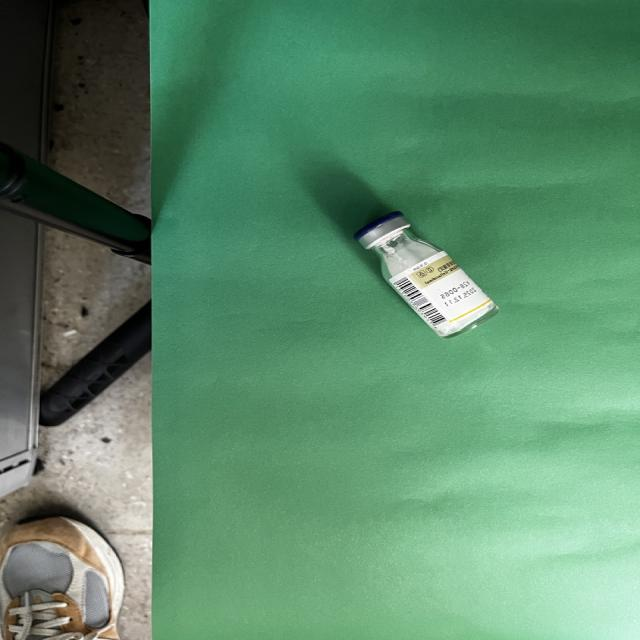Vials: (355, 212, 498, 338)
